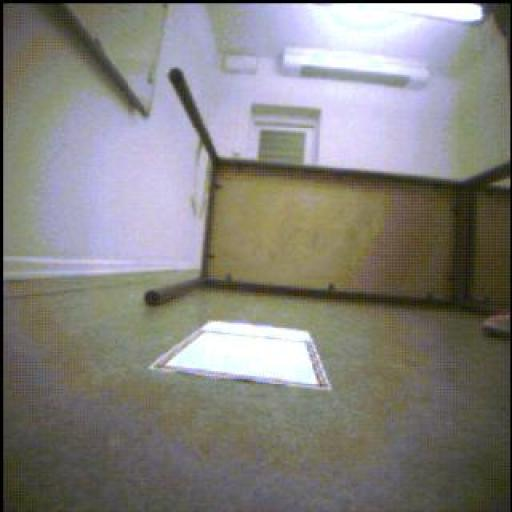Pad: (152, 323, 333, 390)
